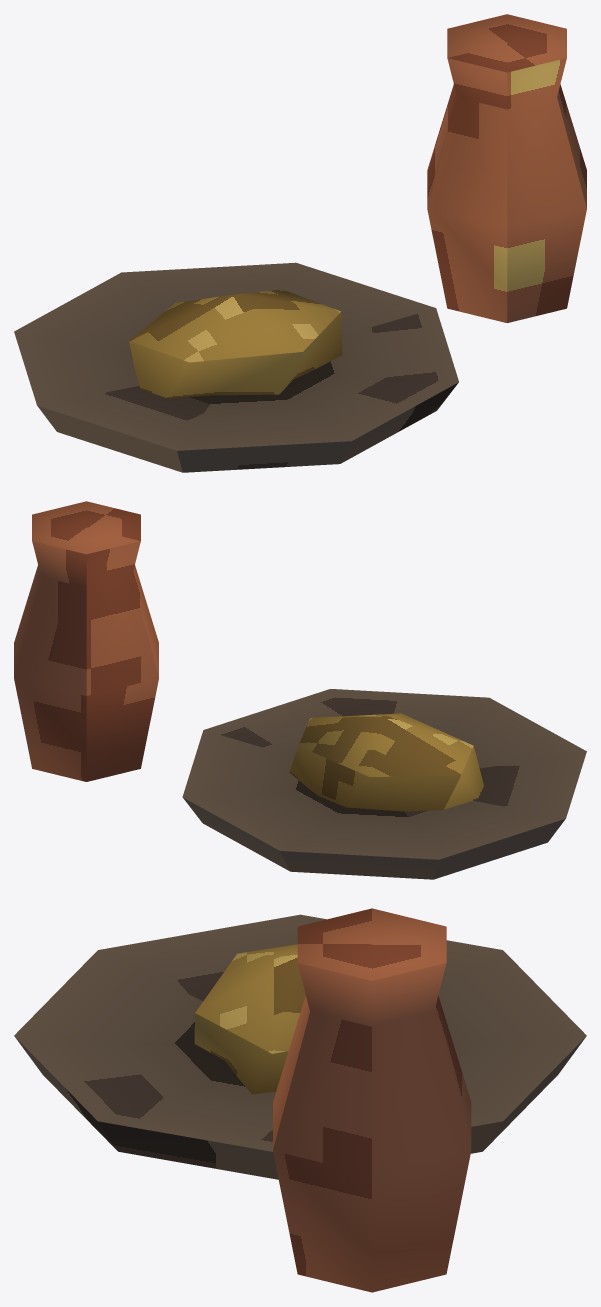
File: mprop.tableware.glb
3 renders of one model, top to bottom at view 1: azimuth 30°, elevation 25°; view 2: azimuth 150°, elevation 25°; view 3: azimuth 270°, elevation 25°, orthographic. The views are drawn at different scales.
Parts seen in each view (by area): view 1: kit_ware, kit_food; view 2: kit_ware, kit_food; view 3: kit_ware, kit_food.
Part boxes in pixels (left/top/right/bottom): kit_ware: left=14, top=14, right=586, bottom=472; kit_food: left=129, top=289, right=342, bottom=397; kit_ware: left=14, top=501, right=586, bottom=879; kit_food: left=289, top=713, right=483, bottom=811; kit_ware: left=14, top=908, right=586, bottom=1292; kit_food: left=194, top=944, right=305, bottom=1094.
Size of the model in its own units: 0.58 by 0.27 by 0.4.
Materials: 3 (3 with a texture image).
